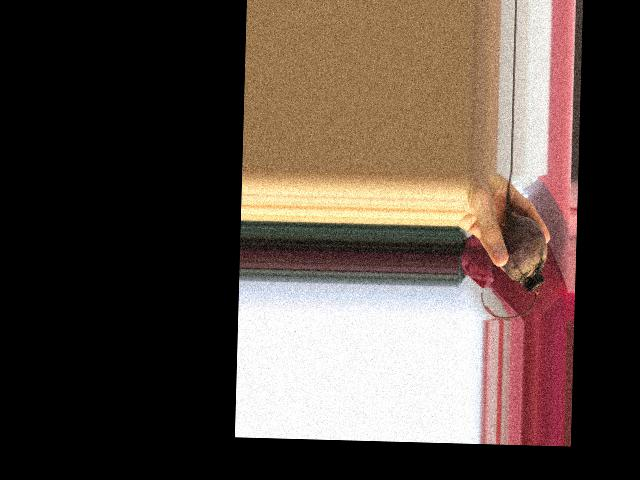beet: (480, 172, 549, 320)
